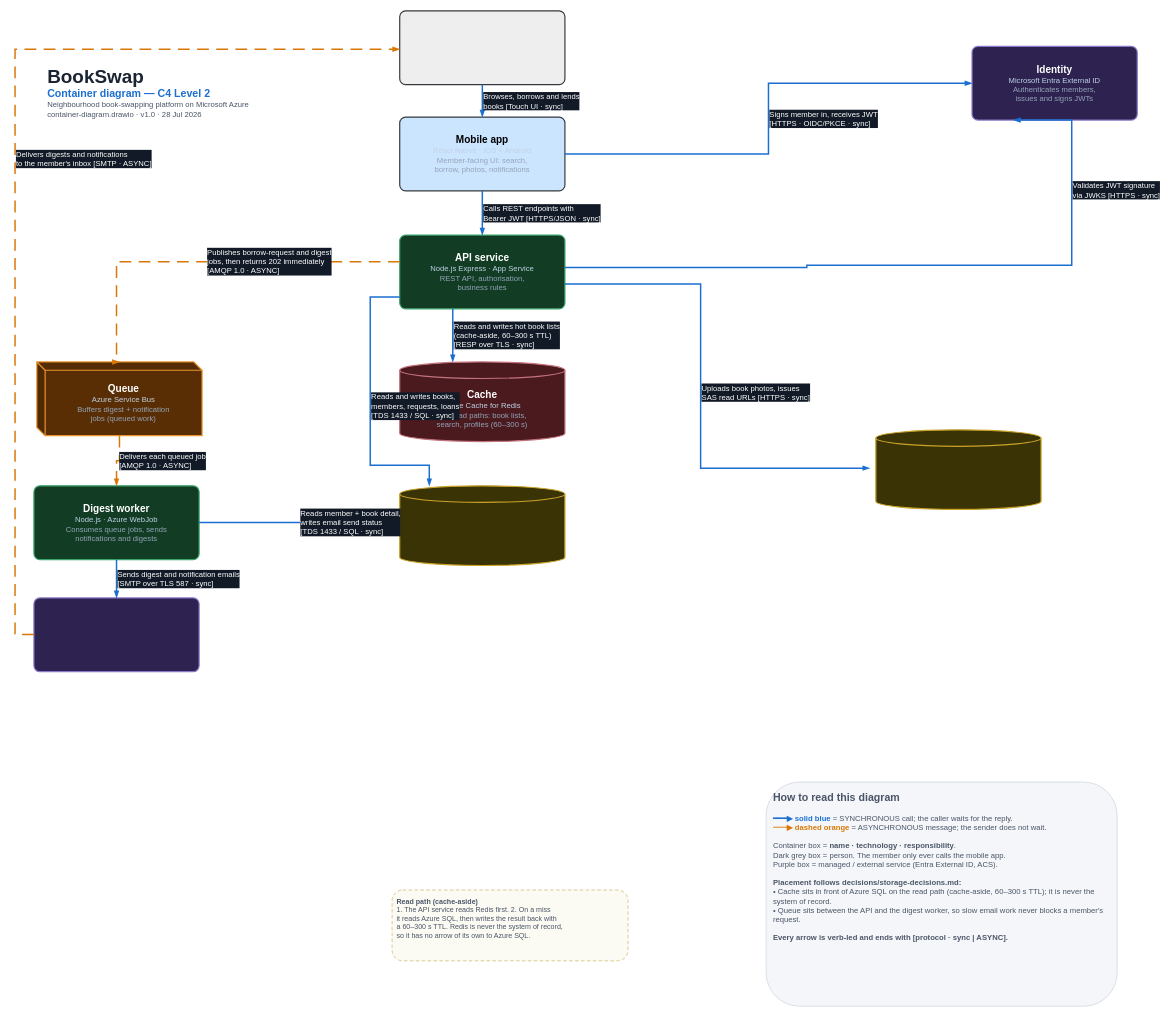
Some shapes in this 1171 by 1017 pixel diagram are drawn without their labels. The centre of each missing label's shape, as x and y in pixels:
Database Azure SQL System of record: members, books, requests, loans: the point at 482,525
Email Azure Communication Services Outbound digest and notification email: the point at 116,634
Member Person Neighbour in the building who lends and borrows books: the point at 482,47
Object store Azure Blob Storage Book cover photos ≤ 5 MB, served via SAS URLs: the point at 958,469
